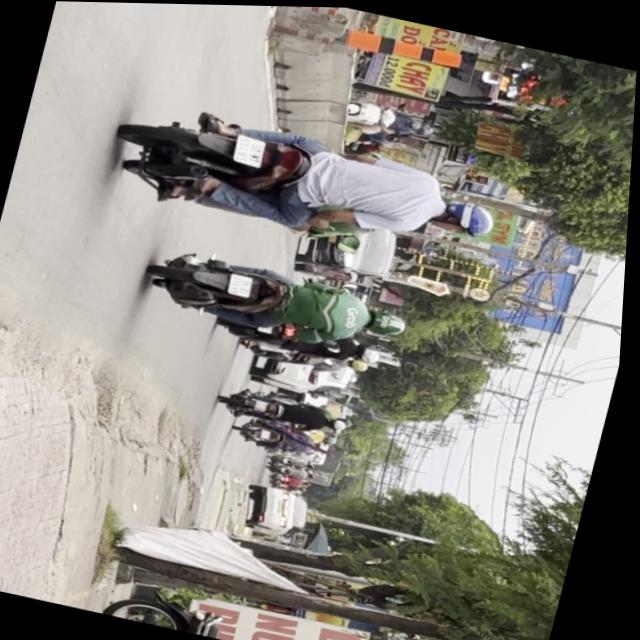helmet: (434, 191, 504, 238), (369, 304, 416, 336)
licenseplate: (103, 88, 518, 272), (142, 238, 423, 359)
nohelmet: (236, 134, 270, 165), (232, 272, 259, 296)
